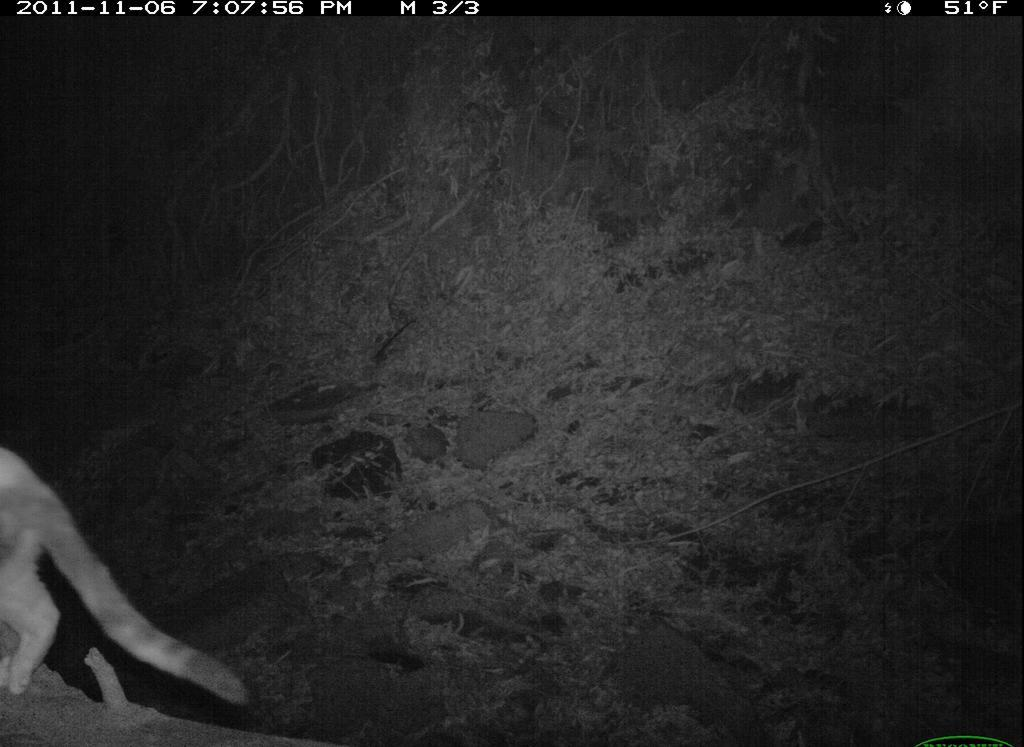cat: (1, 432, 296, 722)
